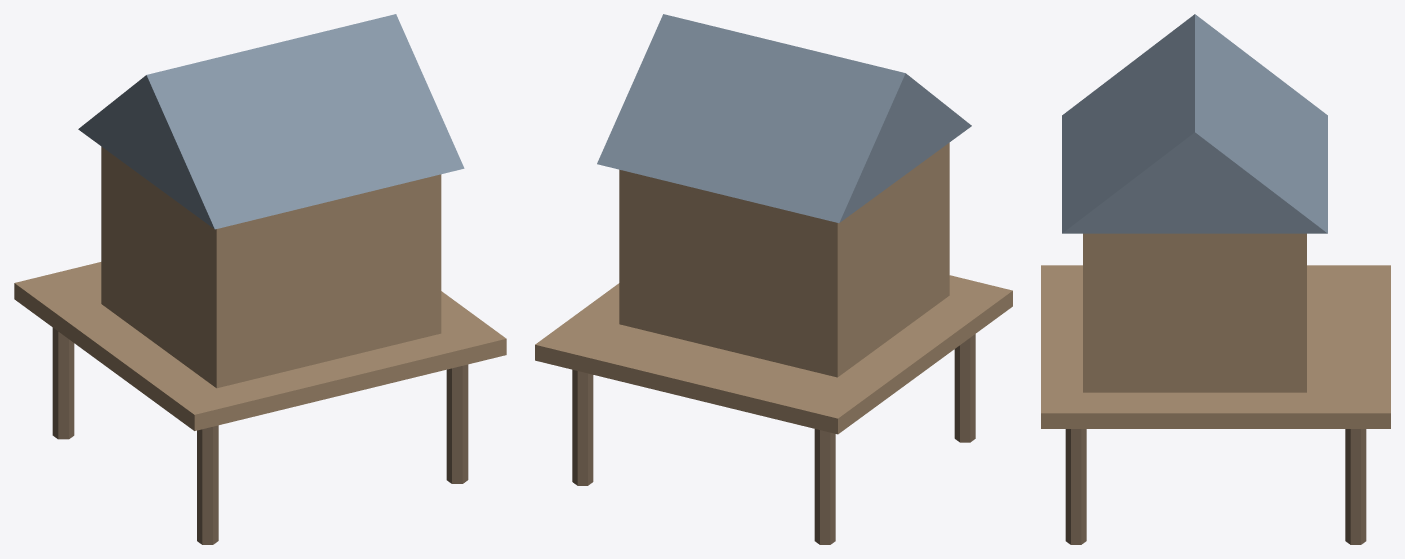
The picture shows the model from 3 angles, left to right: view 1: azimuth 30°, elevation 25°; view 2: azimuth 150°, elevation 25°; view 3: azimuth 270°, elevation 25°; orthographic projection. The views are drawn at different scales.
Visible parts, largest first — view 1: structure.pier_hut; view 2: structure.pier_hut; view 3: structure.pier_hut.
Part boxes in pixels (x1,y1,x2,y2): structure.pier_hut: [14, 14, 506, 544]; structure.pier_hut: [535, 14, 1012, 544]; structure.pier_hut: [1041, 14, 1390, 544].
Size of the model in its own units: 5 by 6.45 by 5.
